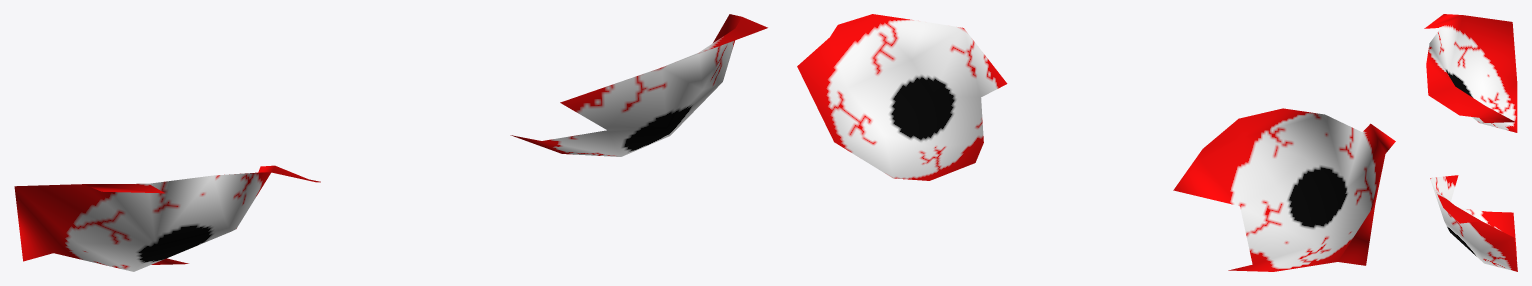
Rendered from radface.glb.
The picture shows the model from 3 angles, left to right: view 1: azimuth 30°, elevation 25°; view 2: azimuth 150°, elevation 25°; view 3: azimuth 270°, elevation 25°; orthographic projection. The views are drawn at different scales.
Visible parts, largest first — view 1: Mesh1.001; view 2: Mesh1.001; view 3: Mesh1.001.
Boxes of the visible parts, bbox=[...] form: Mesh1.001: bbox=[14, 14, 767, 271]; Mesh1.001: bbox=[797, 14, 1395, 271]; Mesh1.001: bbox=[1424, 14, 1517, 271].
Size of the model in its own units: 3.58 by 0.7311 by 0.6662.
Materials: 1 (1 with a texture image).
